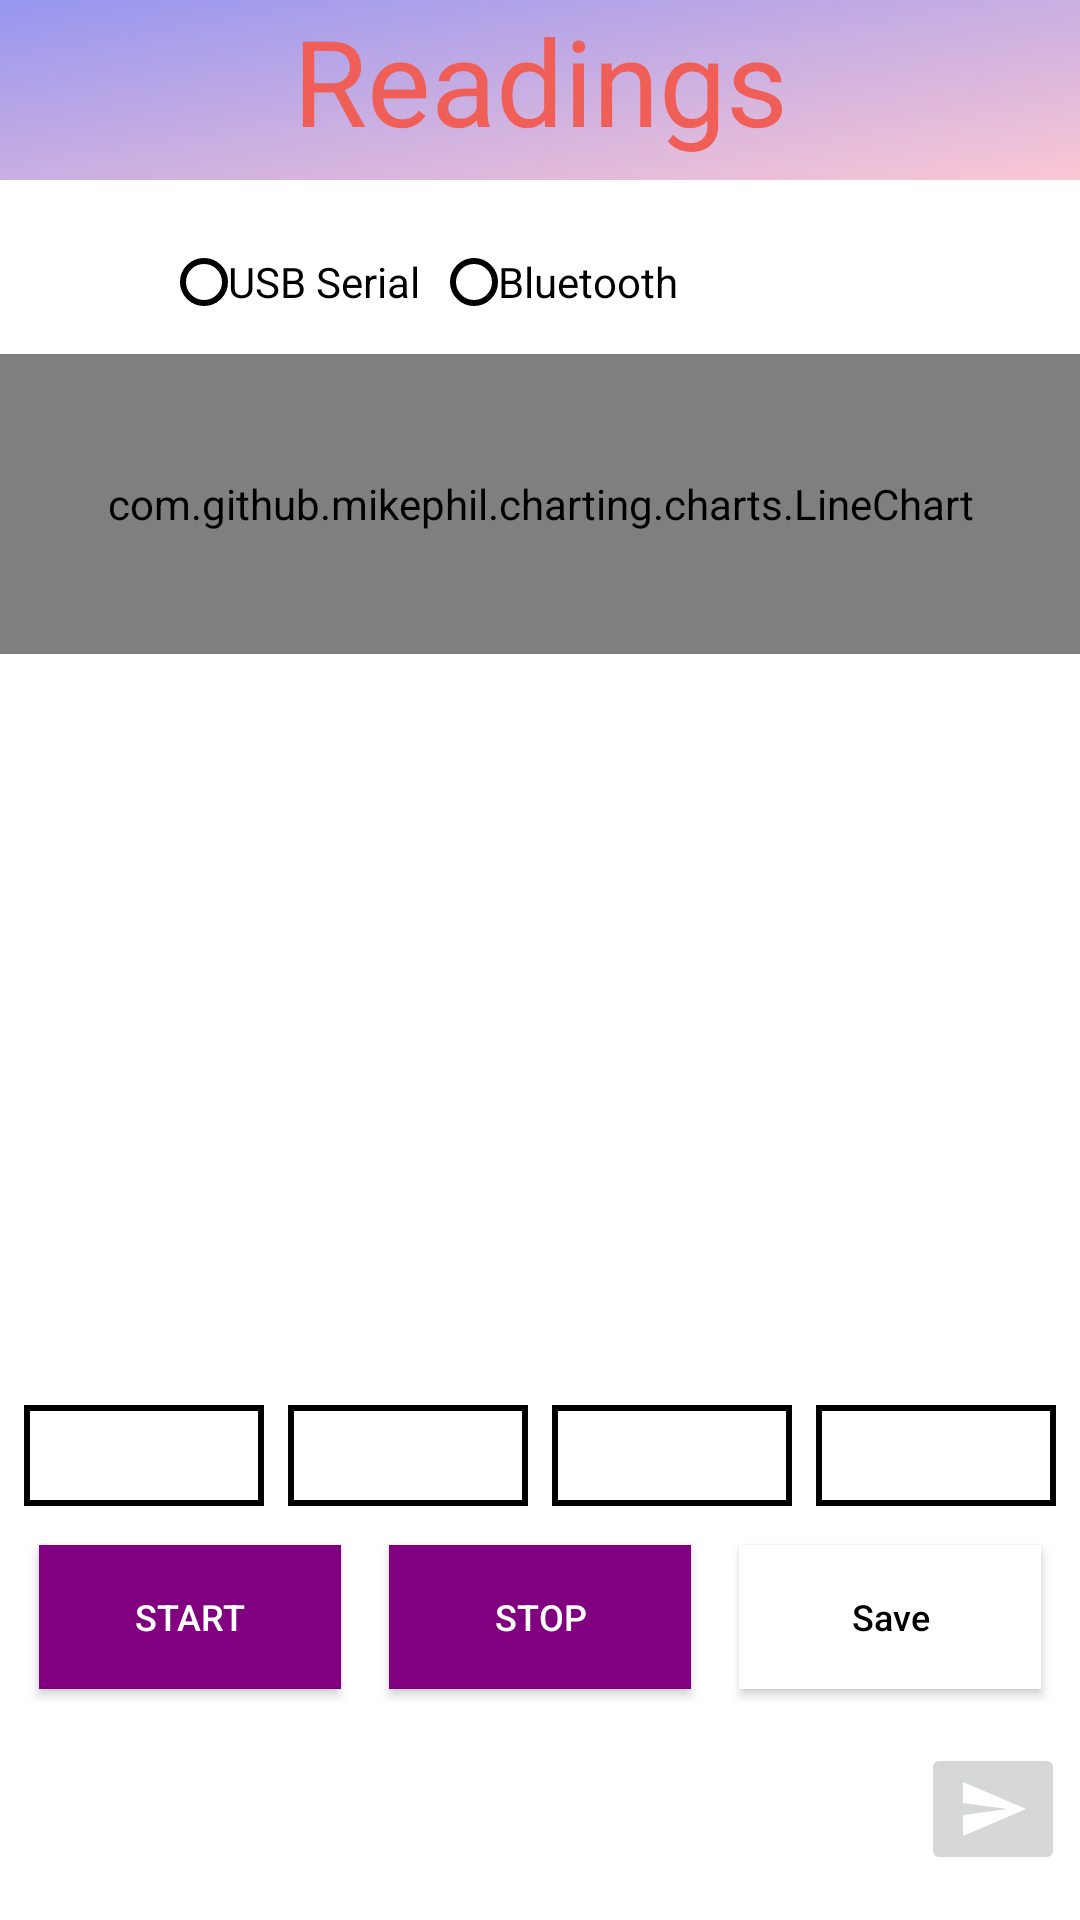

Screen size 1080 × 1920. Icon name, then its box in pixels as {"x1": x1, "y1": y1, "x2": x2, "y2": y2}:
send: {"x1": 933, "y1": 1761, "x2": 1053, "y2": 1857}
